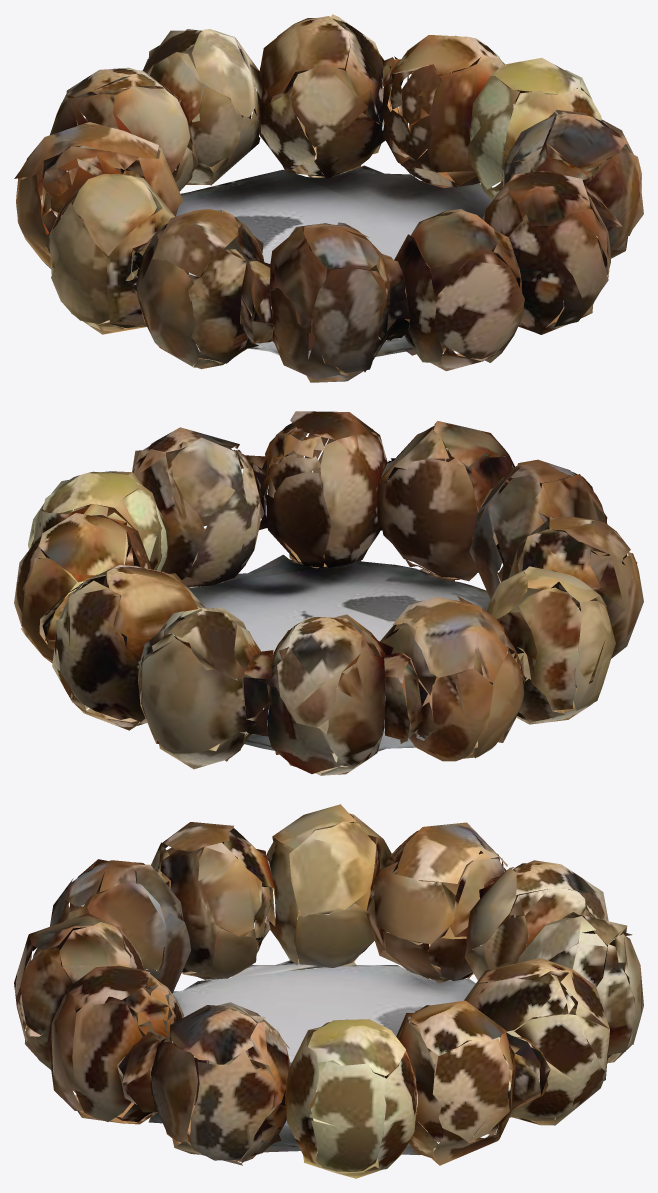
The model's file is acorn_beads.glb.
3 views of the same model, one above another, from view 1: azimuth 30°, elevation 25°; view 2: azimuth 150°, elevation 25°; view 3: azimuth 270°, elevation 25° (orthographic).
Visible parts, largest first — view 1: low; view 2: low; view 3: low.
Part boxes in pixels (<box>): low: <box>14,14,643,382</box>; low: <box>14,411,643,775</box>; low: <box>14,804,643,1178</box>.
Size of the model in its own units: 7.52 by 2.04 by 7.51.
Materials: 1 (1 with a texture image).
